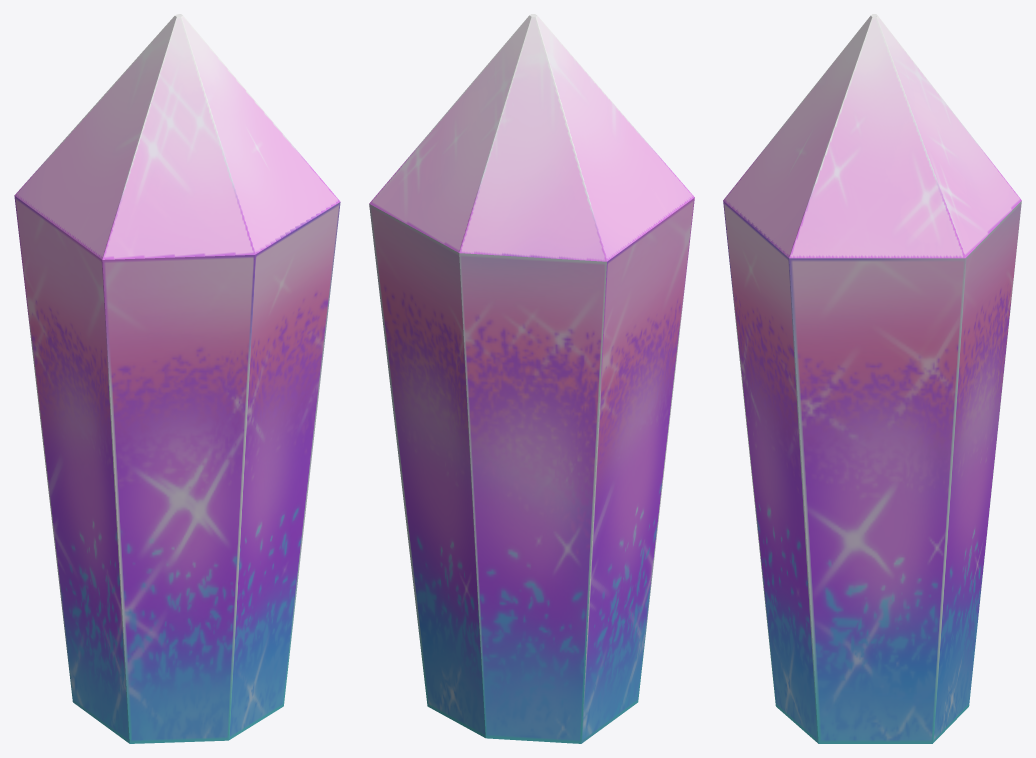
The model's file is crystal.fbx.
The picture shows the model from 3 angles, left to right: view 1: azimuth 30°, elevation 25°; view 2: azimuth 150°, elevation 25°; view 3: azimuth 270°, elevation 25°; orthographic projection.
Visible parts, largest first — view 1: pCube16; view 2: pCube16; view 3: pCube16.
Boxes of the visible parts, x1,y1,x2,y2 form: pCube16: (14, 14, 340, 743); pCube16: (369, 14, 694, 743); pCube16: (723, 14, 1021, 743).
Bounding box in the file's own units: 1.99 × 5.51 × 2.16.
